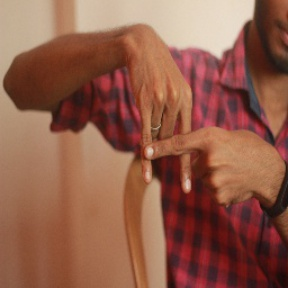H: (105, 79, 227, 198)
